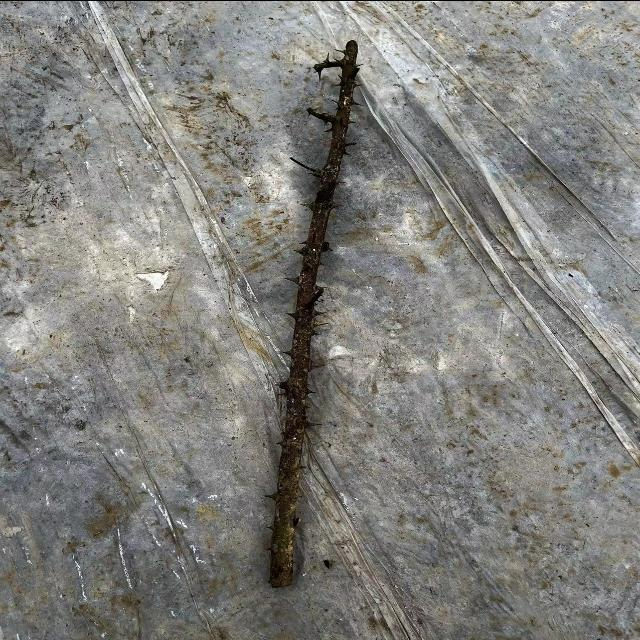branch: (270, 39, 358, 587)
